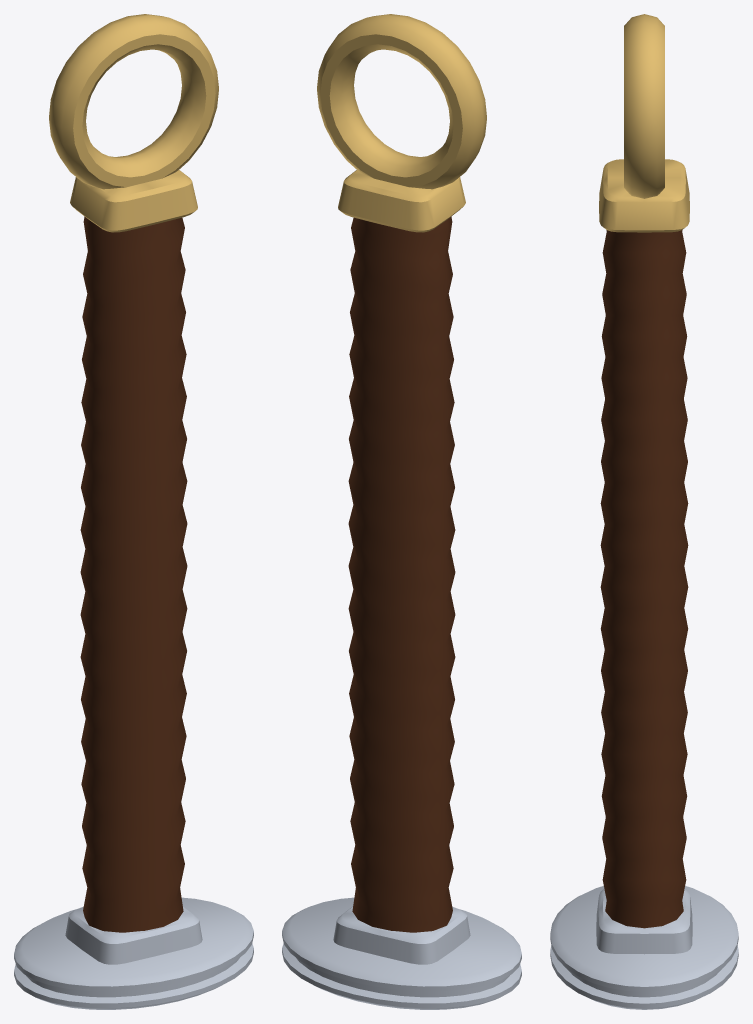
The model's file is DaoHiltGame.fbx.
The picture shows the model from 3 angles, left to right: view 1: azimuth 30°, elevation 25°; view 2: azimuth 150°, elevation 25°; view 3: azimuth 270°, elevation 25°; orthographic projection.
Visible parts, largest first — view 1: Grip, Pommel, Guard; view 2: Grip, Pommel, Guard; view 3: Grip, Guard, Pommel.
Part boxes in pixels (x1,y1,x2,y2): Grip: [80, 216, 187, 932]; Pommel: [49, 14, 218, 232]; Guard: [14, 897, 253, 1009]; Grip: [348, 216, 455, 932]; Pommel: [317, 14, 486, 232]; Guard: [282, 897, 521, 1009]; Grip: [600, 230, 688, 928]; Guard: [550, 886, 738, 1009]; Pommel: [599, 14, 689, 232].
Size of the model in its own units: 0.38 by 1.57 by 0.286.
